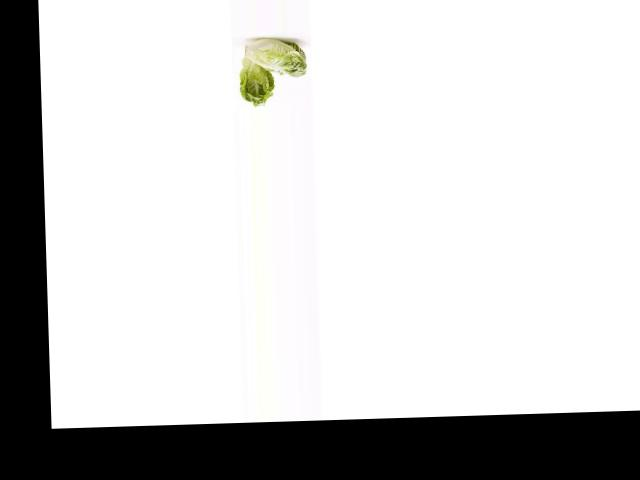lettuce: (239, 34, 311, 82)
